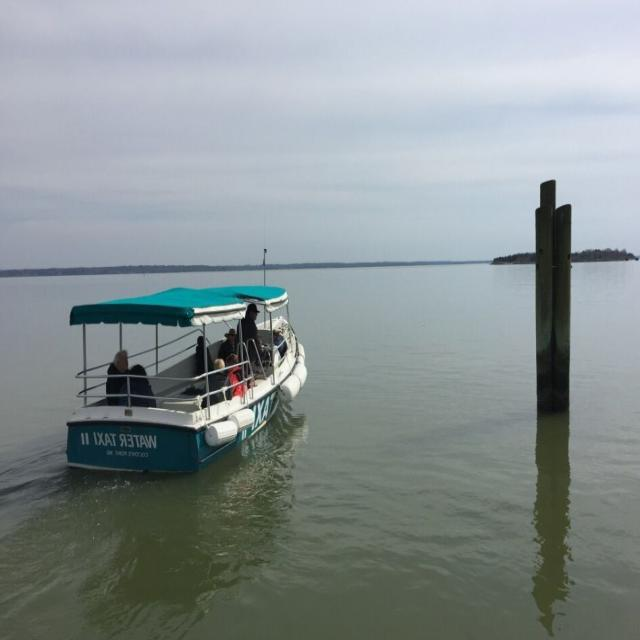passenger ship: (72, 274, 314, 484)
